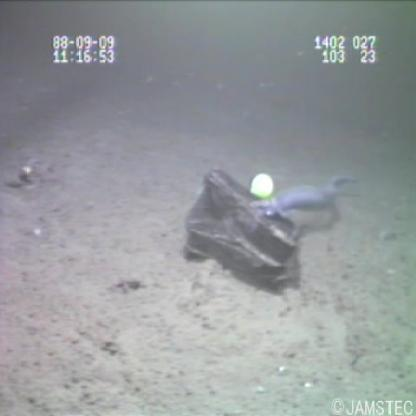Bio: (258, 168, 362, 238)
Rác: (178, 162, 302, 291)
